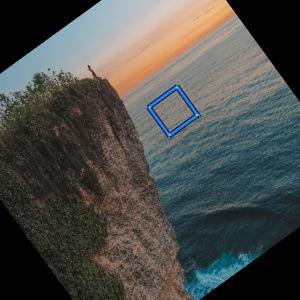square: (145, 83, 201, 138)
